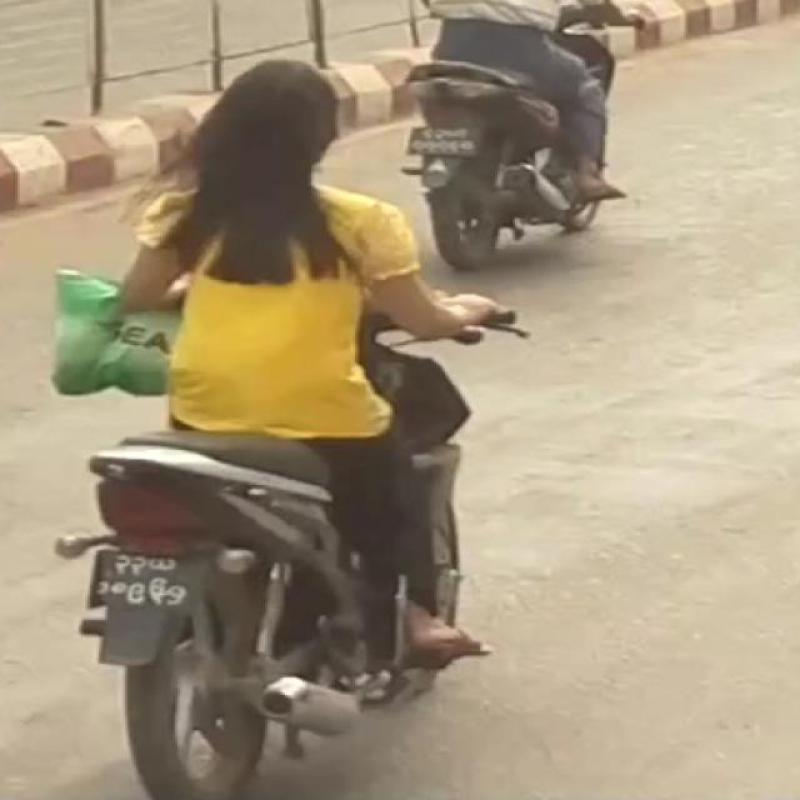nohelmet: (182, 30, 348, 189)
